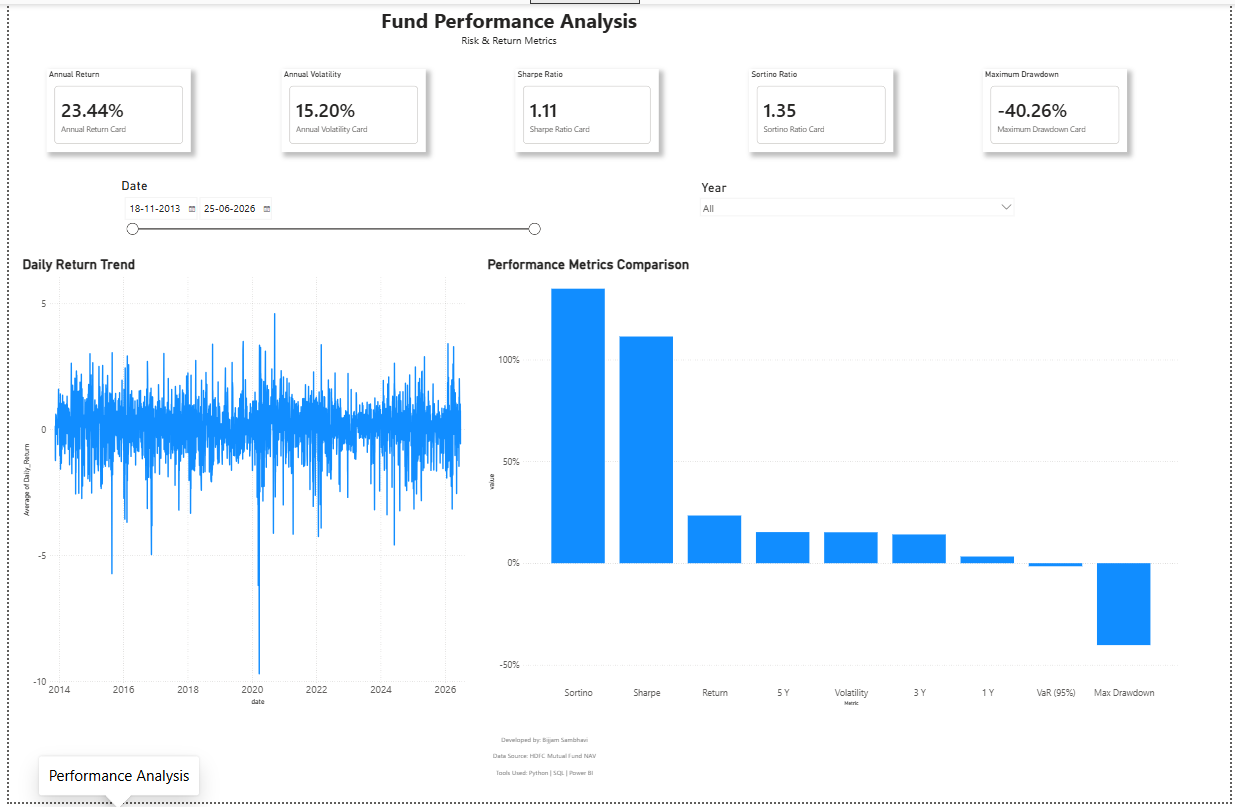

This screenshot's page, from the dashboard's own definition file:
{"tool":"powerbi","page":{"name":"Performance Analysis","canvas":[2500,1000],"ordinal":1},"visuals":[{"type":"cardVisual","title":"Annual Return","fields":{"Data":["Date_Table.Annual Return Card"]},"box":[16,210,212,210],"z":0},{"type":"cardVisual","title":"Sharpe Ratio","fields":{"Data":["Date_Table.Sharpe Ratio Card"]},"box":[742,208,206,212],"z":1000},{"type":"cardVisual","title":"Maximum Drawdown","fields":{"Data":["Date_Table.Maximum Drawdown Card"]},"box":[1438,208,280,216],"z":2000},{"type":"tableEx","title":"Performance Summary","fields":{"Values":["performance_summary.Metric","performance_summary.Value"]},"box":[2092,526,342,420],"z":3000},{"type":"clusteredColumnChart","title":"Performance Metrics Comparison","fields":{"Category":["performance_summary.Metric"],"Y":["Sum(performance_summary.Value)"]},"box":[598,460,1494,514],"z":4000},{"type":"cardVisual","title":"Annual Volatility","fields":{"Data":["Date_Table.Annual Volatility Card"]},"box":[386,212,212,212],"z":5000},{"type":"lineChart","title":"Daily Return Trend","fields":{"Category":["processed_nav_data.date"],"Y":["Avg(processed_nav_data.Daily_Return)"]},"box":[0,486.7,546.7,460],"z":6000},{"type":"cardVisual","title":"Sortino Ratio","fields":{"Data":["performance_summary.Sortino Ratio Card"]},"box":[1094,208,198,212],"z":7000},{"type":"textbox","box":[0,38.3,1543.3,170],"z":8000}]}

Visuals, with their boxes on the page's 2500x1000 design canvas (x1, y1, x2, y2). These are canvas units, not pixel positions in the 1235x807 screenshot, which may show the page scaled, cropped or inside an application window:
"Annual Return" cardVisual: left=16, top=210, right=228, bottom=420
"Sharpe Ratio" cardVisual: left=742, top=208, right=948, bottom=420
"Maximum Drawdown" cardVisual: left=1438, top=208, right=1718, bottom=424
"Performance Summary" tableEx: left=2092, top=526, right=2434, bottom=946
"Performance Metrics Comparison" clusteredColumnChart: left=598, top=460, right=2092, bottom=974
"Annual Volatility" cardVisual: left=386, top=212, right=598, bottom=424
"Daily Return Trend" lineChart: left=0, top=487, right=547, bottom=947
"Sortino Ratio" cardVisual: left=1094, top=208, right=1292, bottom=420
textbox: left=0, top=38, right=1543, bottom=208
